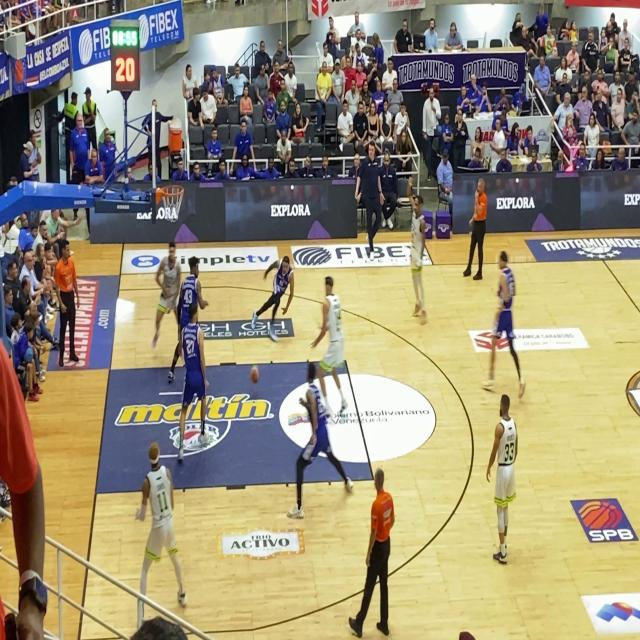Ball: (247, 364, 264, 384)
referee: (349, 455, 405, 640), (45, 230, 90, 373), (456, 168, 491, 289)
team1: (114, 424, 192, 627), (481, 378, 526, 574), (306, 268, 355, 412), (394, 178, 435, 336), (148, 230, 184, 358)
team2: (284, 360, 356, 516), (171, 282, 217, 468), (255, 242, 296, 350), (175, 244, 209, 310)
ubasket: (158, 172, 185, 223)
